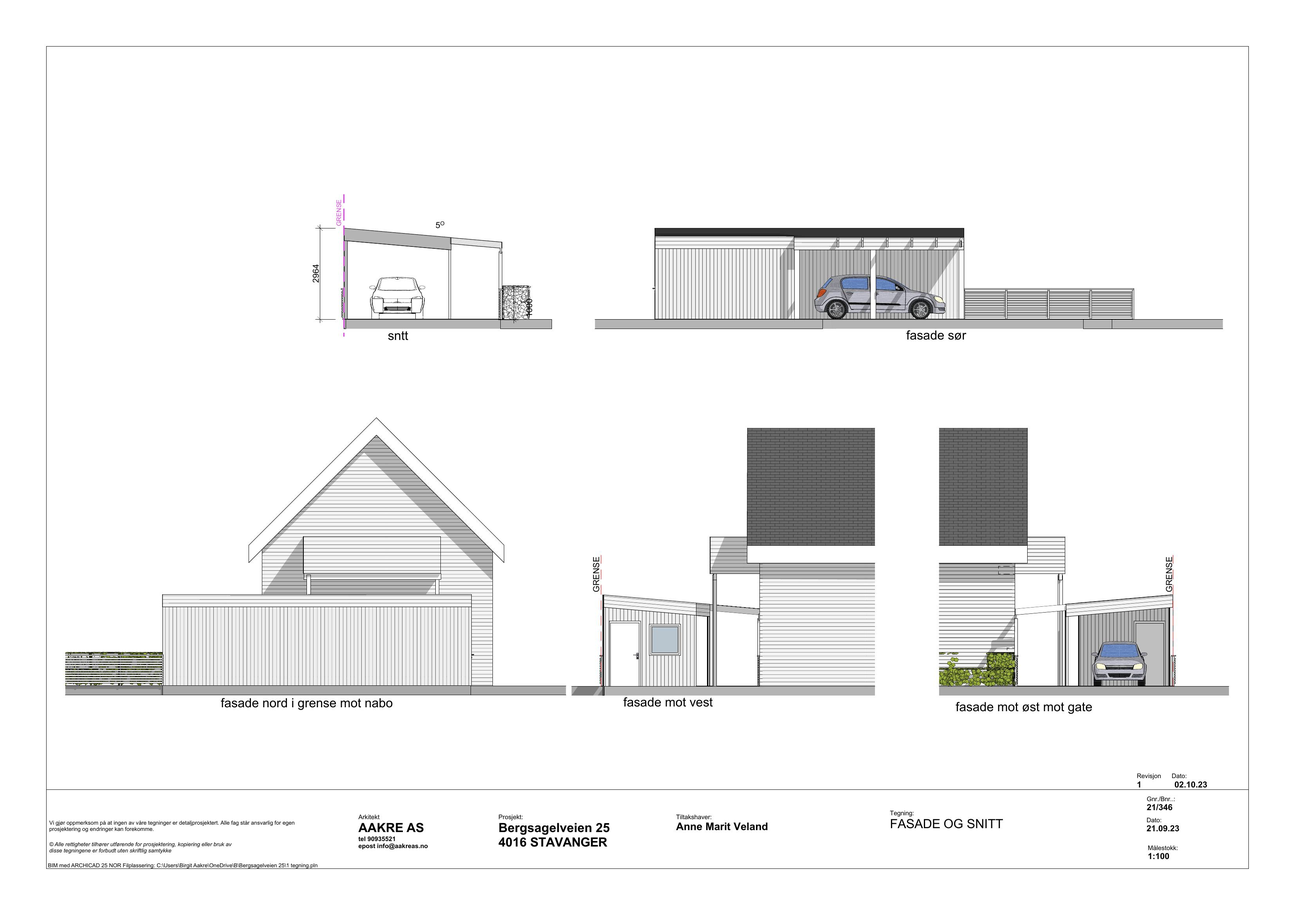fasade: (161, 418, 506, 685), (604, 424, 879, 687), (940, 428, 1173, 685), (654, 227, 962, 317)
snitt: (342, 227, 503, 320)
